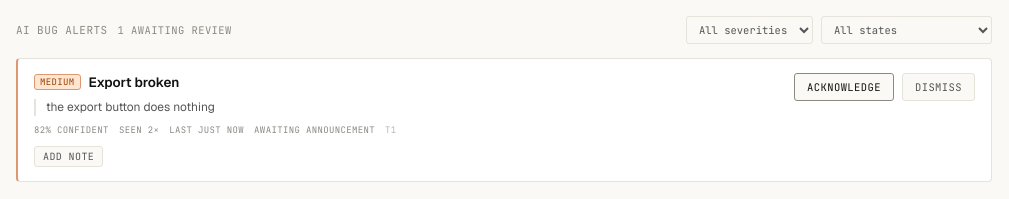
Test case: BugAlertsPage › dismisses a row and swaps the button for a done marker
The width and height of the screenshot is (1009, 199).
Click the button with class "dismiss" at (938, 87), box [902,73,975,101]
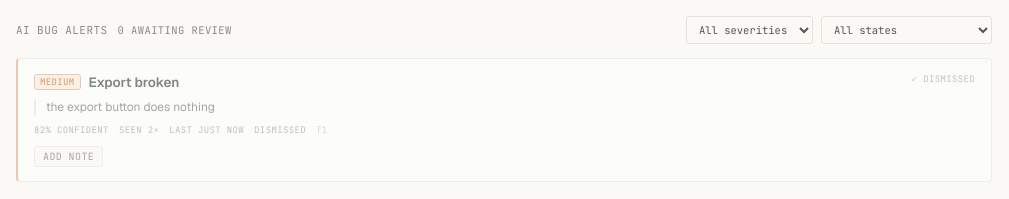
Result: the text "dismissed" is shown at [254,124,306,136]
